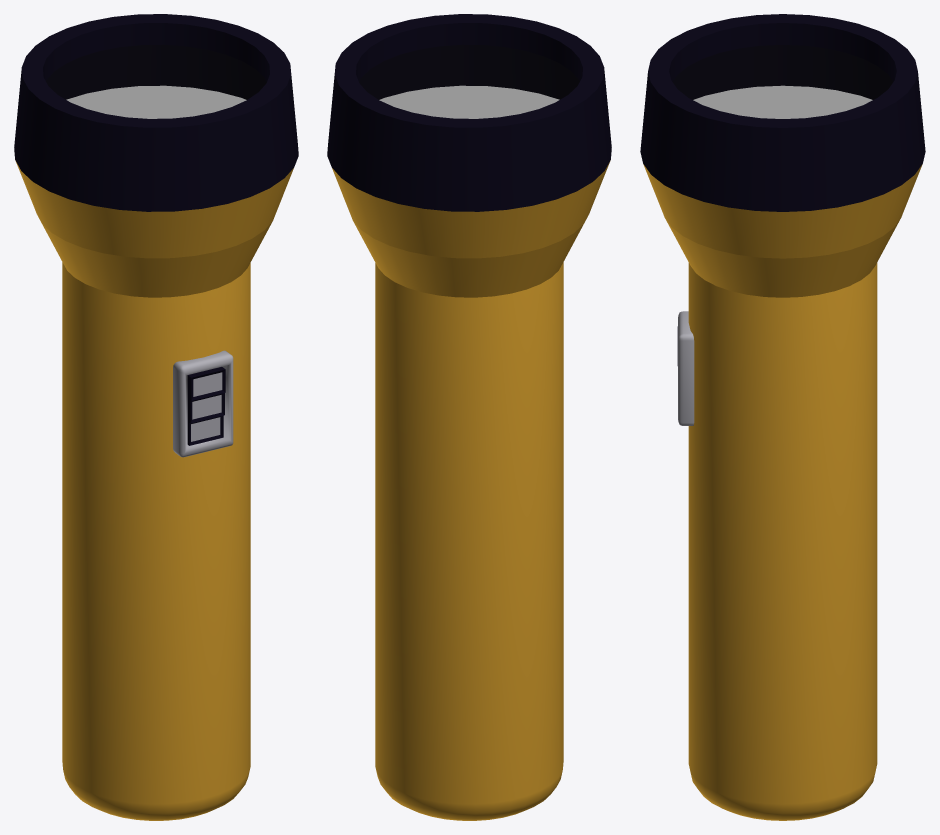
File: flashlight_resized.glb
3 views of the same model, side by side, from view 1: azimuth 30°, elevation 25°; view 2: azimuth 150°, elevation 25°; view 3: azimuth 270°, elevation 25° (orthographic).
Visible parts, largest first — view 1: Cylinder; view 2: Cylinder; view 3: Cylinder.
Part boxes in pixels (x1,y1,x2,y2): Cylinder: (14,14,298,820); Cylinder: (327,14,611,820); Cylinder: (640,14,925,820).
Size of the model in its own units: 0.908 by 2.53 by 0.908.
